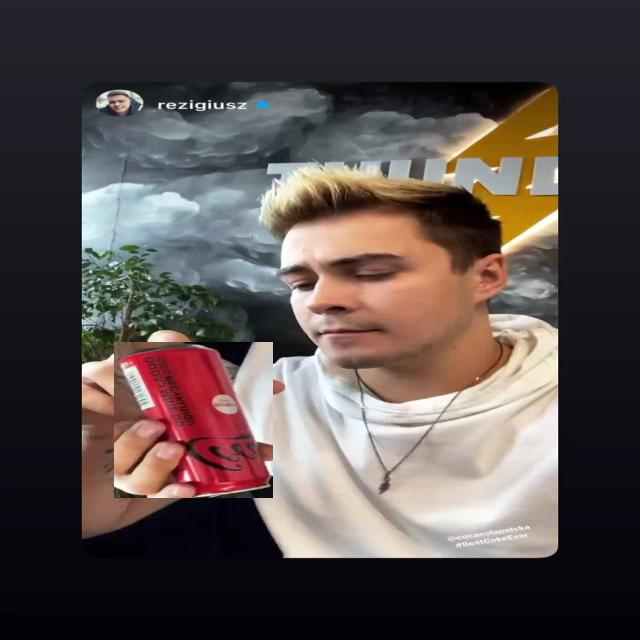coca-cola: (114, 342, 273, 498)
